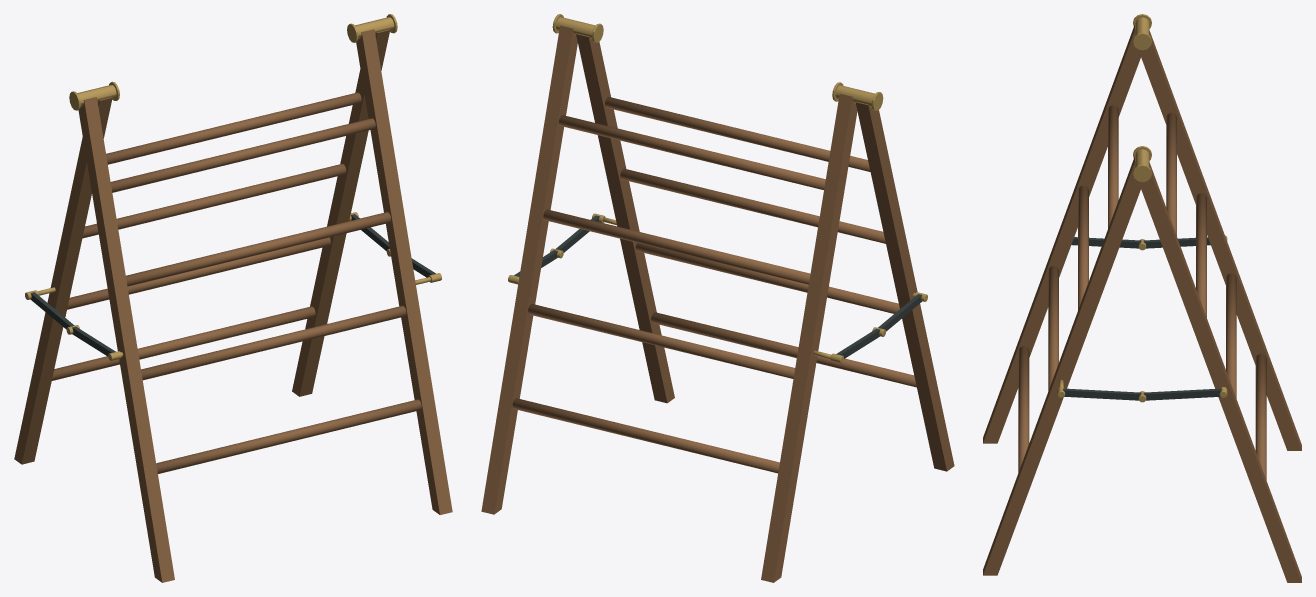
Rendered from rpg-mansion-hinged-timber-drying-frame-01.glb.
3 views of the same model, side by side, from view 1: azimuth 30°, elevation 25°; view 2: azimuth 150°, elevation 25°; view 3: azimuth 270°, elevation 25° (orthographic). The views are drawn at different scales.
Parts seen in each view (by area): view 1: rpg-mansion-hinged-timber-drying-frame-01; view 2: rpg-mansion-hinged-timber-drying-frame-01; view 3: rpg-mansion-hinged-timber-drying-frame-01.
Boxes of the visible parts, box(x1,y1,x2,y2) form: rpg-mansion-hinged-timber-drying-frame-01: box(14, 14, 452, 582); rpg-mansion-hinged-timber-drying-frame-01: box(481, 14, 954, 582); rpg-mansion-hinged-timber-drying-frame-01: box(983, 14, 1301, 582).
Bounding box in the file's own units: 0.964 × 1.2 × 0.8279.
